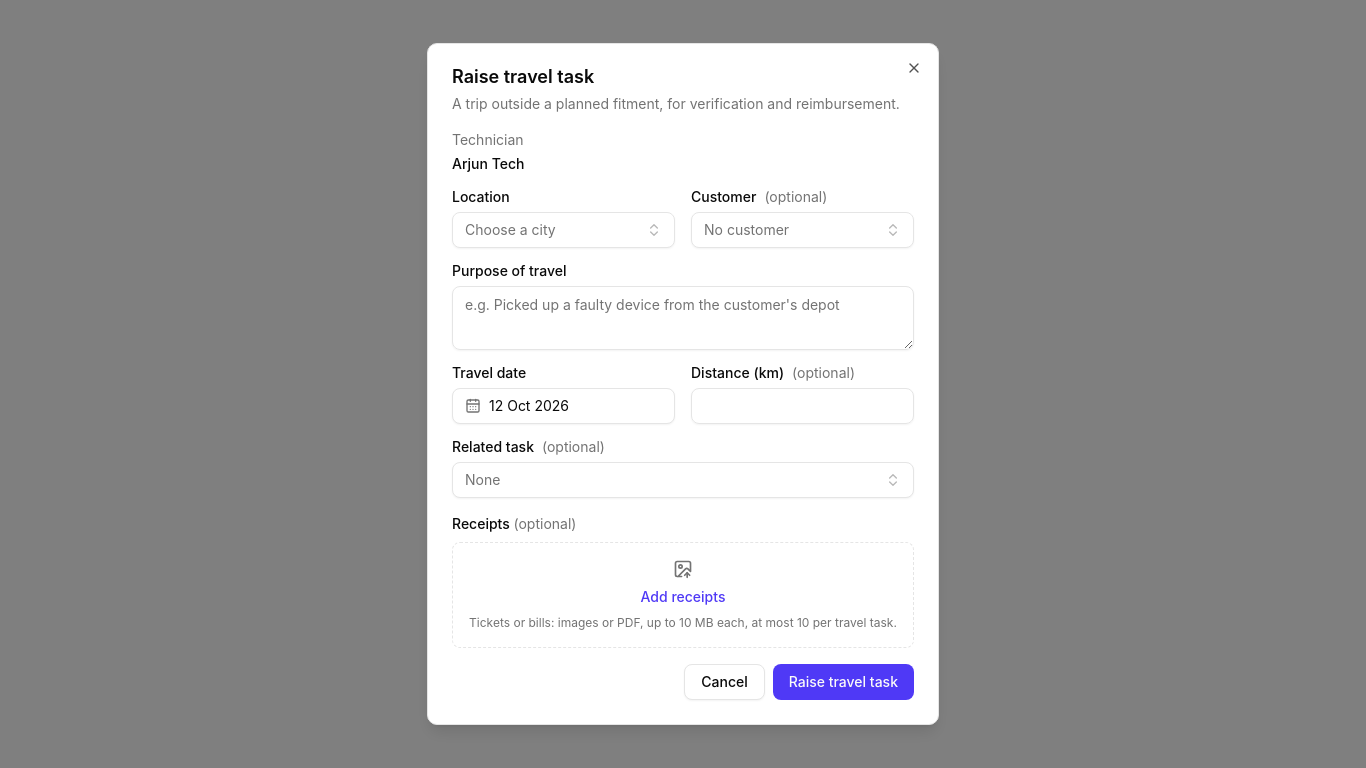
Test: TravelFormDialog (raise) › shows a server refusal verbatim and keeps the dialog open
Check: the element with test id "technician-preset" is shown, box [452, 131, 524, 172]
Click the dropdown named "Location". click: (564, 230)
box: [452, 212, 675, 248]
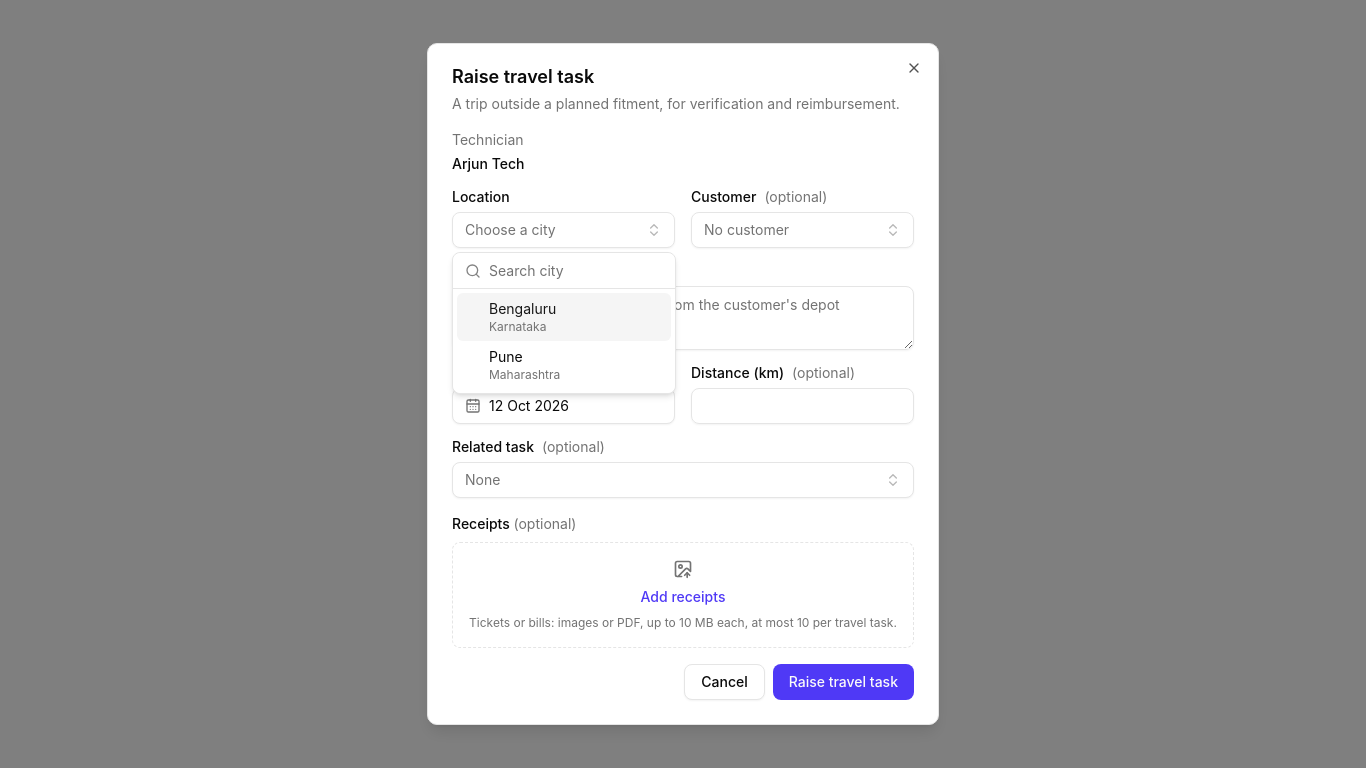
Click the option "Pune Maharashtra". click: (525, 365)
box: [489, 348, 560, 382]
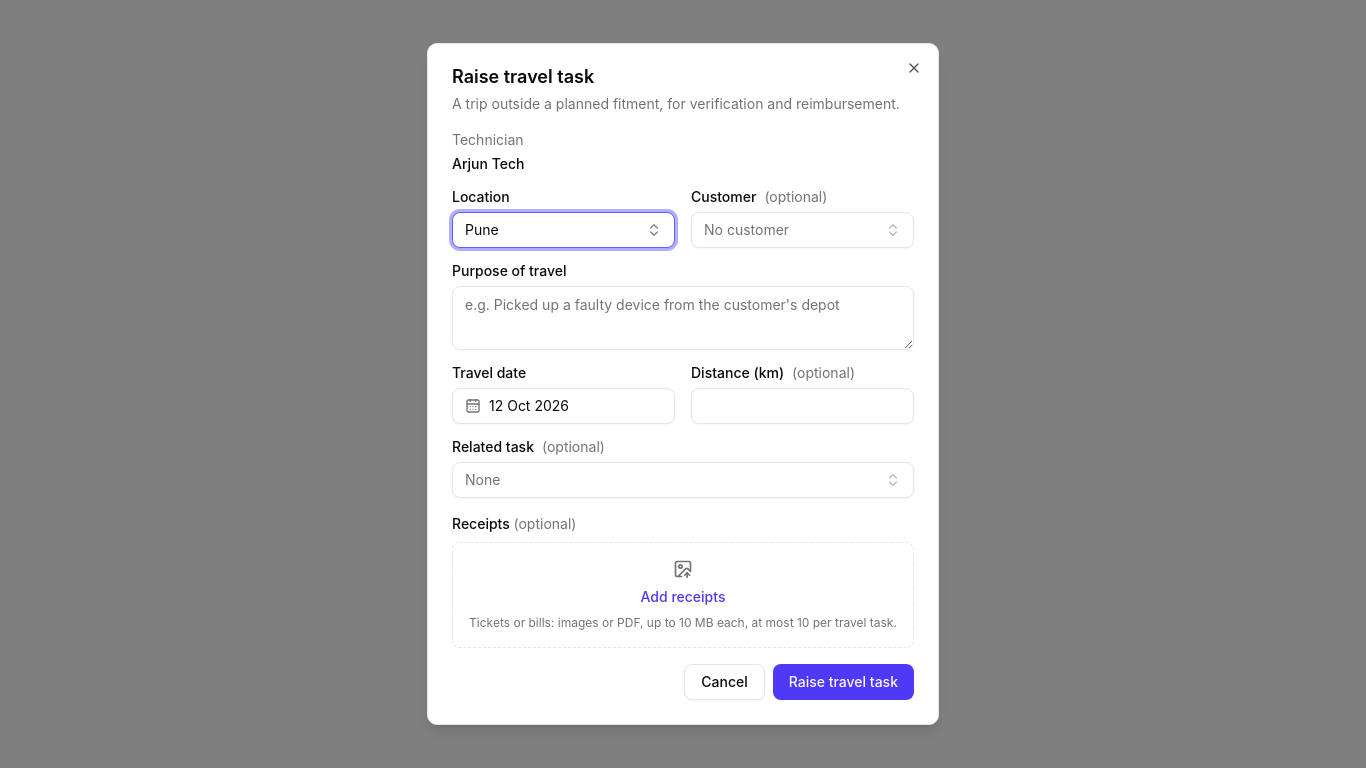
Type "Bus to the depot" into the text box labelled "Purpose of travel". click: (683, 318)
box: [452, 286, 914, 350]
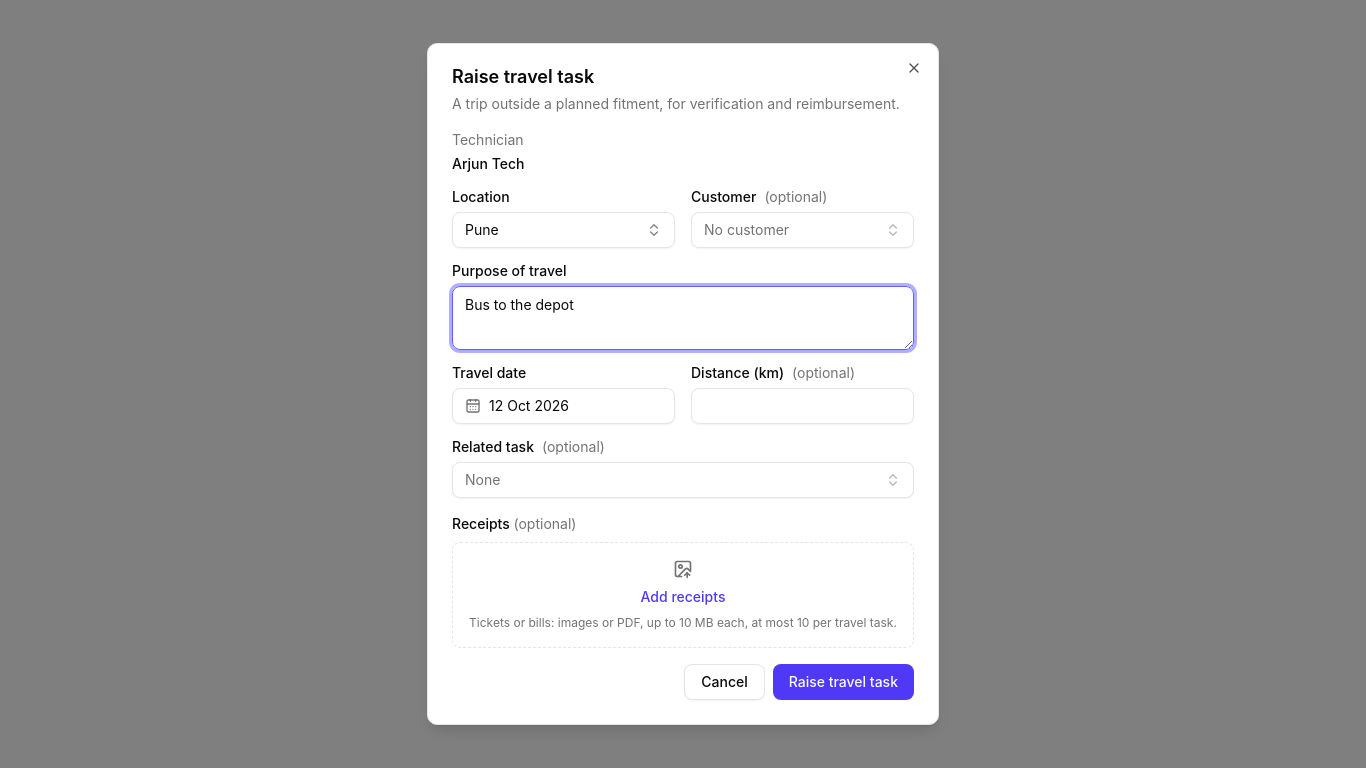
Click the button "Raise travel task". click: (843, 682)
box: [773, 664, 914, 700]
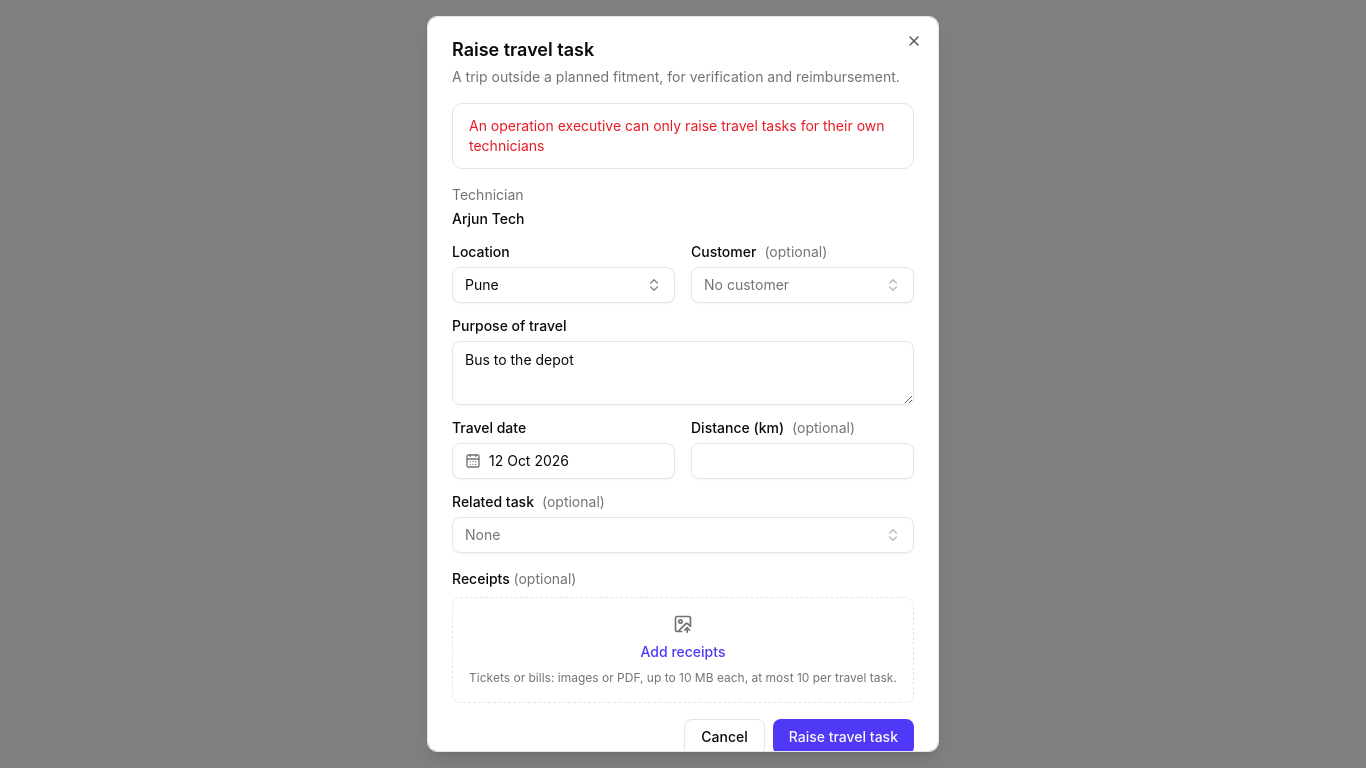
Check: the message reads "An operation executive can only raise travel tasks for their own technicians", box [469, 117, 884, 154]
